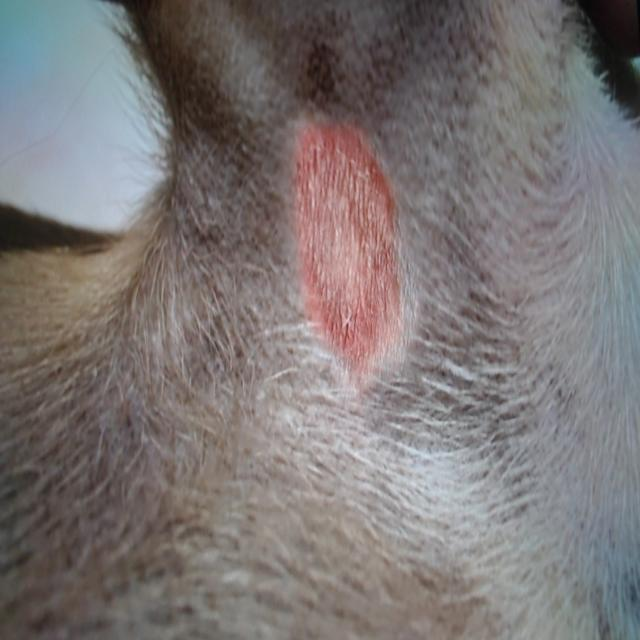ringworm: (266, 99, 419, 381)
